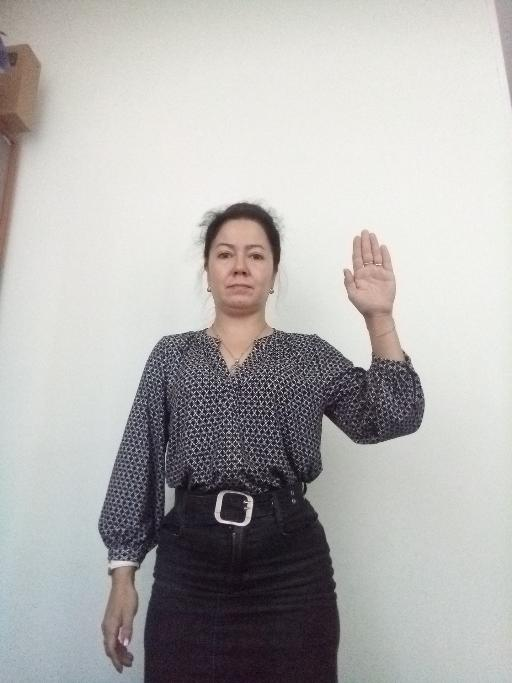no_gesture: (98, 581, 143, 674)
stop: (340, 227, 397, 316)
